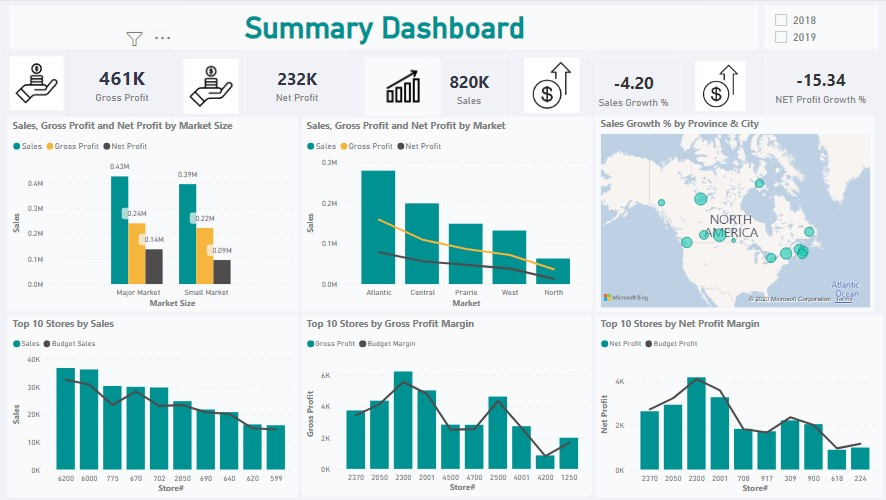

The page's visual inventory and layout, read from the dashboard file:
{"tool":"powerbi","page":{"name":"Summary","canvas":[1280,720],"ordinal":0},"visuals":[{"type":"textbox","box":[15.9,5.8,1082.2,64.9],"z":0},{"type":"card","fields":{"Values":["Sum(Sheet1.Gross Profit)"]},"box":[101.2,70.4,154,93.8],"z":0,"group":"g1"},{"type":"image","box":[8.8,70.4,92.4,93.8],"z":1000,"group":"g1"},{"type":"lineStackedColumnComboChart","title":"Top 10 Stores by Sales","fields":{"Category":["Sheet1.Store#"],"Y":["Sum(Sheet1.Sales)"],"Y2":["Sum(Sheet1.Budget Sales)"]},"box":[13,453.1,421.3,262.6],"z":1000},{"type":"lineClusteredColumnComboChart","fields":{"Category":["Sheet1.Market"],"Y":["Sum(Sheet1.Sales)"],"Y2":["Sum(Sheet1.Gross Profit)","Sum(Sheet1.Net Profit)"]},"box":[437.2,167.4,421.3,281.4],"z":2000},{"type":"image","box":[255.2,74.8,101.2,93.8],"z":3000,"group":"g2"},{"type":"lineStackedColumnComboChart","title":"Top 10 Stores by Gross Profit Margin","fields":{"Category":["Sheet1.Store#"],"Y2":["Sum(Sheet1.Budget Margin)"],"Y":["Sum(Sheet1.Gross Profit)"]},"box":[437.8,453.6,420.5,262.1],"z":3000},{"type":"card","fields":{"Values":["Sum(Sheet1.Net Profit)"]},"box":[356.4,70.4,148.1,98.2],"z":4000,"group":"g2"},{"type":"lineStackedColumnComboChart","title":"Top 10 Stores by Net Profit Margin","fields":{"Category":["Sheet1.Store#"],"Y2":["Sum(Sheet1.Budget Profit)"],"Y":["Sum(Sheet1.Net Profit)"]},"box":[861.4,453.1,415.6,262.6],"z":4000},{"type":"slicer","fields":{"Values":["Sheet1.Year"]},"box":[1105.3,5.8,165.9,64.9],"z":5000},{"type":"image","box":[527.9,80.7,111.4,85.1],"z":5000,"group":"g3"},{"type":"group","id":"g1","title":"Group 1","box":[8.8,70.4,246.4,93.8],"z":6000},{"type":"card","fields":{"Values":["Sum(Sheet1.Sales)"]},"box":[615.9,79.2,124.6,89.5],"z":6000,"group":"g3"},{"type":"group","id":"g2","title":"Group 2","box":[255.2,70.4,249.3,98.2],"z":7000},{"type":"image","box":[730.3,73.3,134.9,93.8],"z":7000,"group":"g4"},{"type":"group","id":"g3","title":"Group 3","box":[527.9,79.2,212.6,89.5],"z":8000},{"type":"card","fields":{"Values":["Sheet1.Growth %"]},"box":[846.1,79.2,140.8,93.8],"z":8000,"group":"g4"},{"type":"group","id":"g4","title":"Group 4","box":[730.3,73.3,256.6,99.7],"z":9000},{"type":"image","box":[973.9,77.9,134.2,86.6],"z":9000,"group":"g5"},{"type":"group","id":"g5","title":"Group 5","box":[973.9,77.9,290,86.6],"z":10000},{"type":"card","fields":{"Values":["Sheet1.NET Profit Growth %"]},"box":[1108.1,77.9,155.8,86.6],"z":10000,"group":"g5"},{"type":"lineClusteredColumnComboChart","fields":{"Category":["Sheet1.Market Size"],"Y":["Sum(Sheet1.Sales)","Sum(Sheet1.Gross Profit)","Sum(Sheet1.Net Profit)"]},"box":[13,167.4,421.3,281.4],"z":11000},{"type":"map","title":"Sales Growth % by Province & City","fields":{"Category":["Sheet1.Province","Sheet1.City"],"Size":["Sheet1.Growth %"],"Y":["Avg(canadacities.lat)"],"X":["Avg(canadacities.lng)"]},"box":[861.4,164.5,402.6,284.2],"z":12000}]}

Visuals, with their boxes in screenshot pixels (x1, y1, x2, y2), scaled from the page's 1280x720 canvas onto the 886x500 screenshot:
textbox: region(11, 4, 760, 49)
card - Sum(Sheet1.Gross Profit): region(70, 49, 177, 114)
image: region(6, 49, 70, 114)
"Top 10 Stores by Sales" lineStackedColumnComboChart: region(9, 315, 301, 497)
lineClusteredColumnComboChart - Sheet1.Market x Sum(Sheet1.Sales): region(303, 116, 594, 312)
image: region(177, 52, 247, 117)
"Top 10 Stores by Gross Profit Margin" lineStackedColumnComboChart: region(303, 315, 594, 497)
card - Sum(Sheet1.Net Profit): region(247, 49, 349, 117)
"Top 10 Stores by Net Profit Margin" lineStackedColumnComboChart: region(596, 315, 884, 497)
slicer - Sheet1.Year: region(765, 4, 880, 49)
image: region(365, 56, 443, 115)
"Group 1" group: region(6, 49, 177, 114)
card - Sum(Sheet1.Sales): region(426, 55, 513, 117)
"Group 2" group: region(177, 49, 349, 117)
image: region(506, 51, 599, 116)
"Group 3" group: region(365, 55, 513, 117)
card - Sheet1.Growth %: region(586, 55, 683, 120)
"Group 4" group: region(506, 51, 683, 120)
image: region(674, 54, 767, 114)
"Group 5" group: region(674, 54, 875, 114)
card - Sheet1.NET Profit Growth %: region(767, 54, 875, 114)
lineClusteredColumnComboChart - Sheet1.Market Size x Sum(Sheet1.Sales): region(9, 116, 301, 312)
"Sales Growth % by Province & City" map: region(596, 114, 875, 312)
